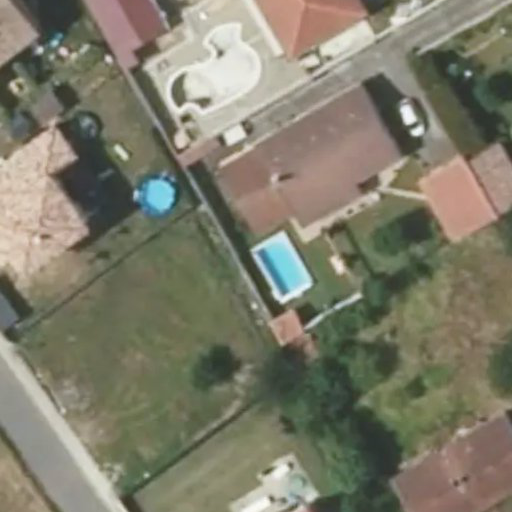pool: (229, 227, 282, 257)
